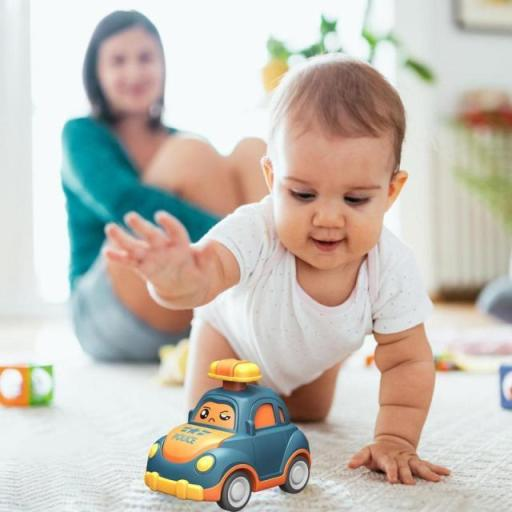baby: (106, 54, 449, 483)
